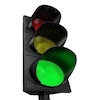green: (22, 35, 38, 62)
